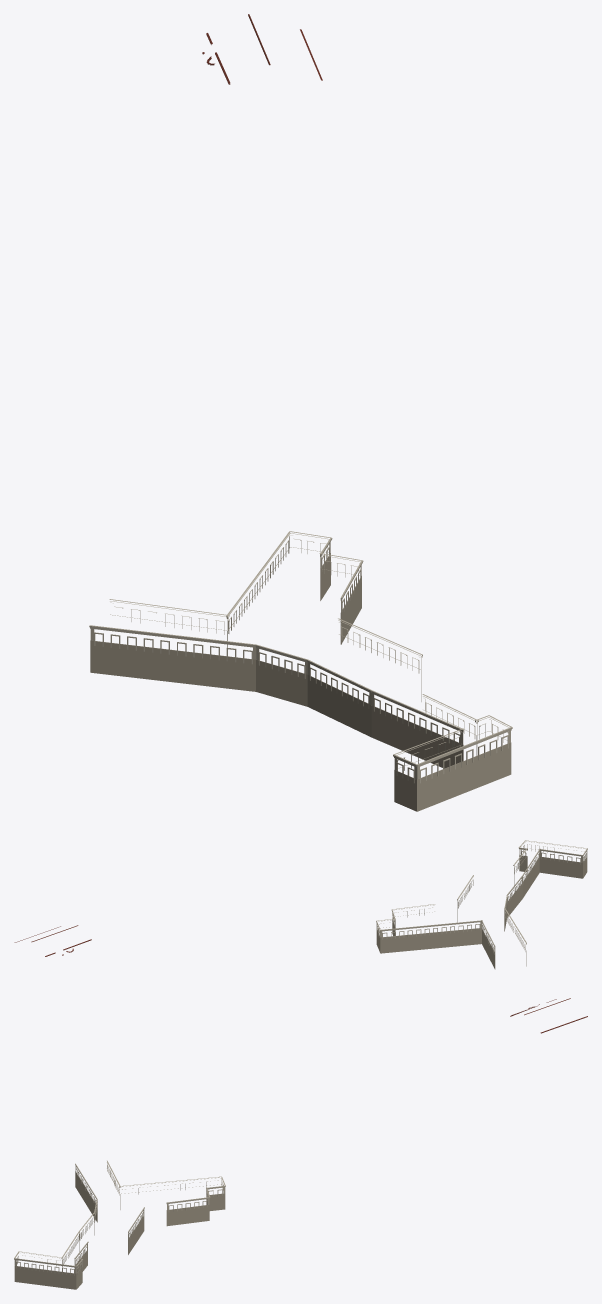
3 renders of one model, top to bottom at view 1: azimuth 30°, elevation 25°; view 2: azimuth 150°, elevation 25°; view 3: azimuth 330°, elevation 25°, orthographic. The views are drawn at different scales.
Parts seen in each view (by area): view 1: detail; view 2: detail; view 3: detail.
Boxes of the visible parts, x1,y1,x2,y2 form: detail: (89,14,512,811); detail: (14,840,587,969); detail: (14,998,587,1289).
Bounding box in the file's own units: 123 × 40.6 × 223.
